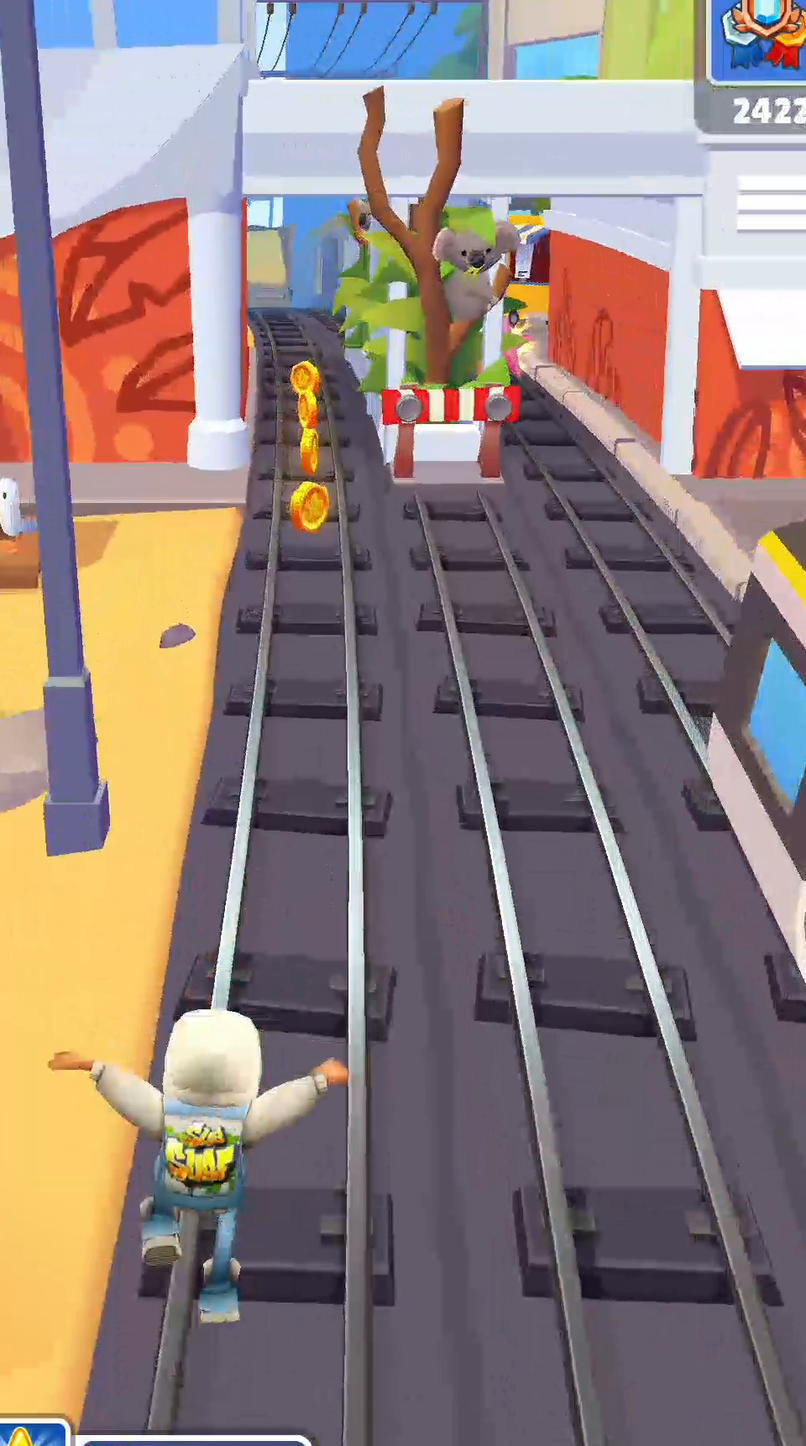block pillar: (333, 86, 519, 481)
train: (707, 521, 805, 983)
